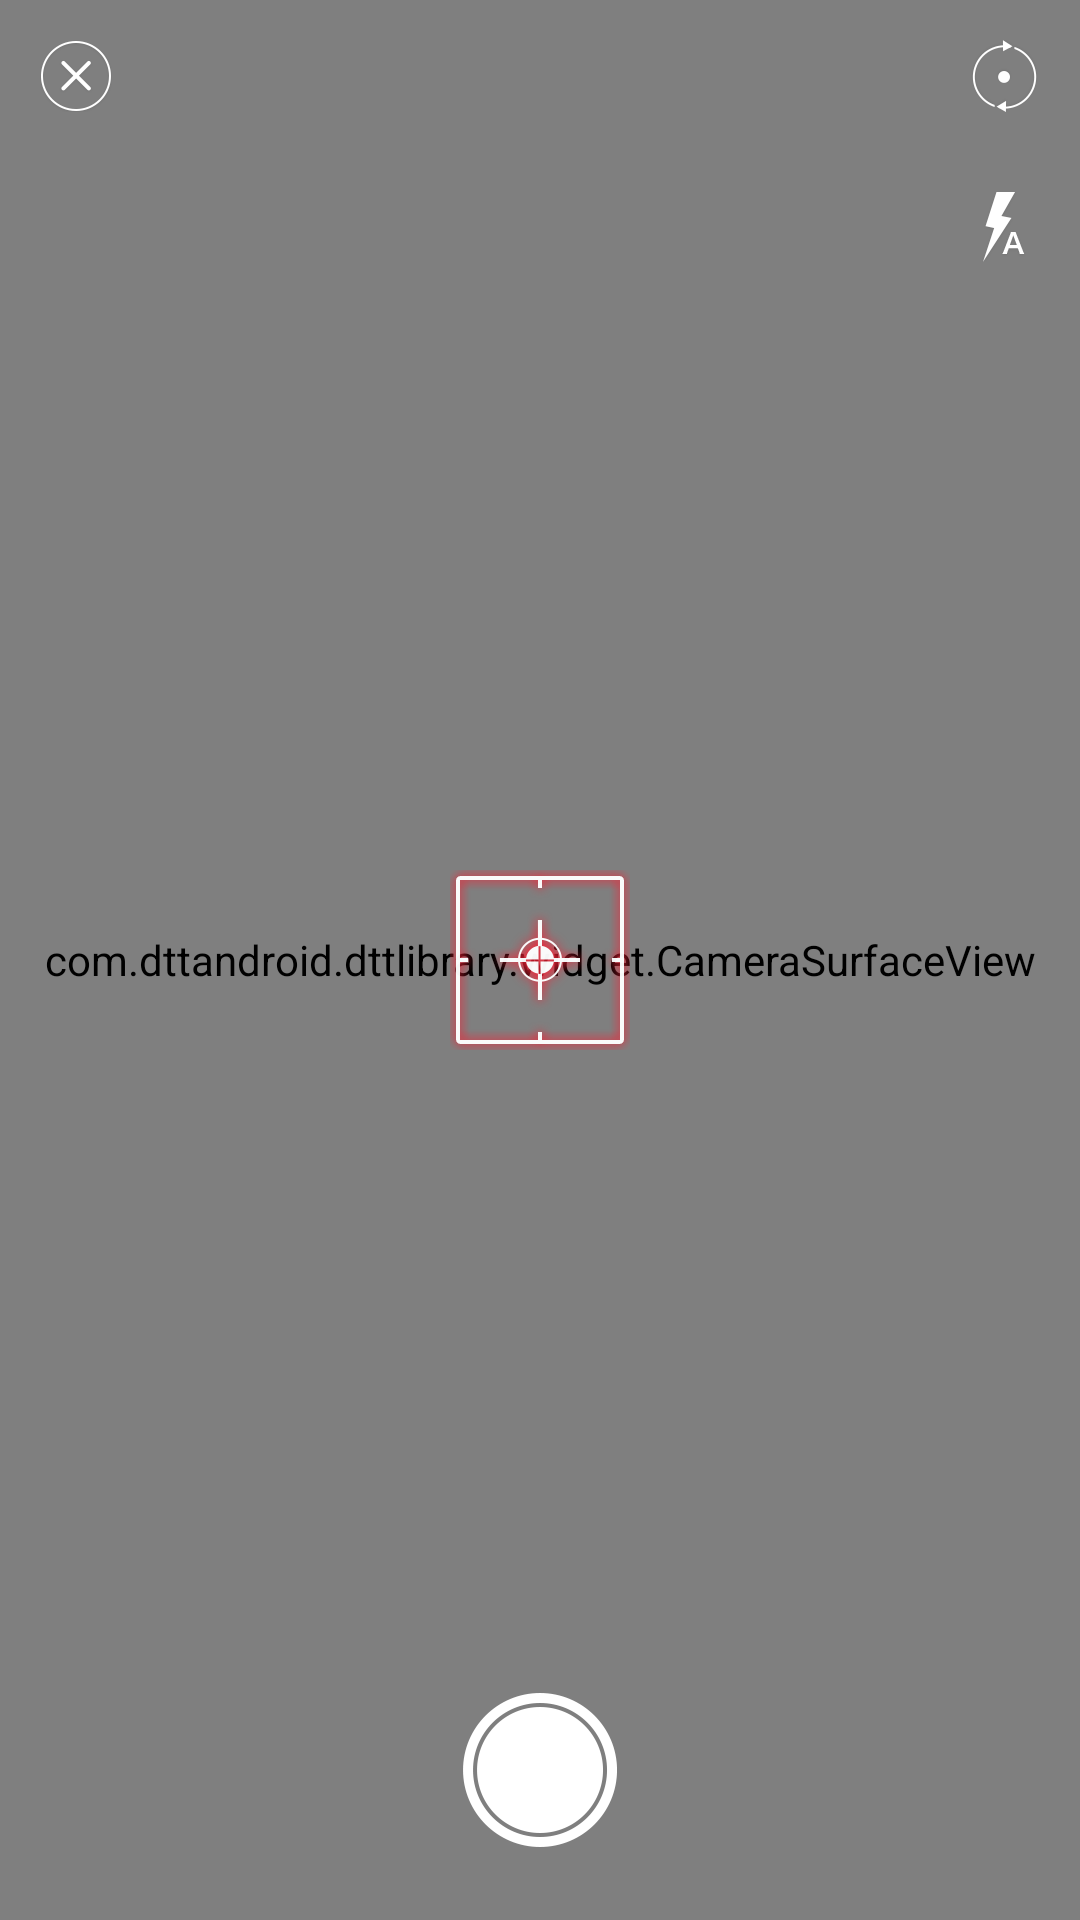

Where icons sit on this 1080x1920 app screen, as (x1, y1, x2, y2):
camera close: (41, 41, 111, 111)
camera flash auto: (983, 192, 1024, 261)
camera switch: (973, 40, 1036, 112)
camera take picture: (463, 1693, 617, 1847)
